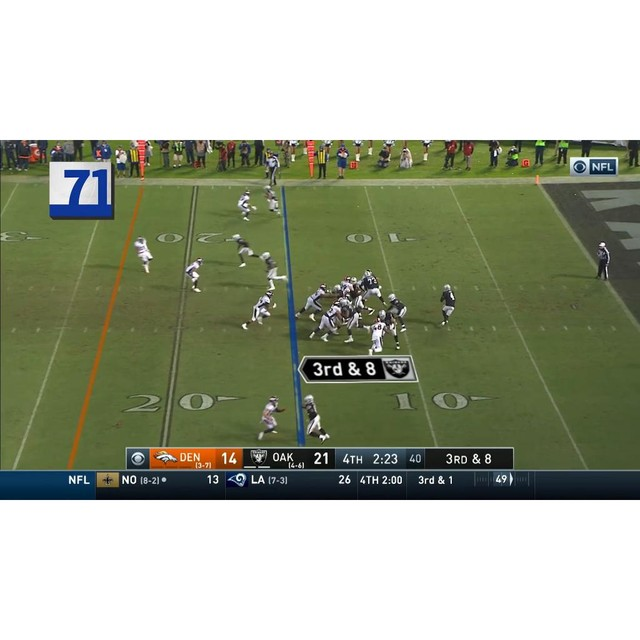american-football-player: (302, 394, 330, 443), (308, 302, 343, 341), (256, 395, 285, 441), (242, 289, 275, 329), (294, 283, 329, 320), (360, 268, 386, 309), (260, 252, 287, 291), (232, 234, 262, 268), (379, 309, 401, 350), (368, 315, 388, 355), (133, 236, 154, 274), (387, 294, 407, 332), (439, 284, 456, 328), (185, 257, 204, 292), (262, 185, 281, 216), (236, 190, 255, 221)
referee: (595, 242, 610, 281), (265, 151, 280, 187)
